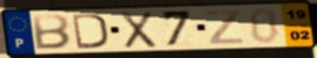0: (246, 7, 282, 45)
7: (161, 9, 194, 48)
B: (32, 13, 73, 51)
D: (70, 12, 110, 50)
X: (118, 10, 158, 50)
Z: (204, 8, 245, 46)
